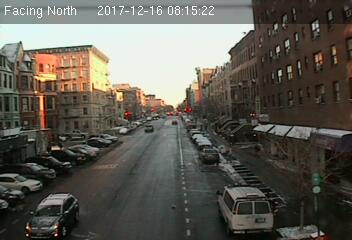car: (25, 192, 78, 239), (201, 148, 219, 162), (143, 124, 154, 133)
police: (214, 178, 273, 233)
